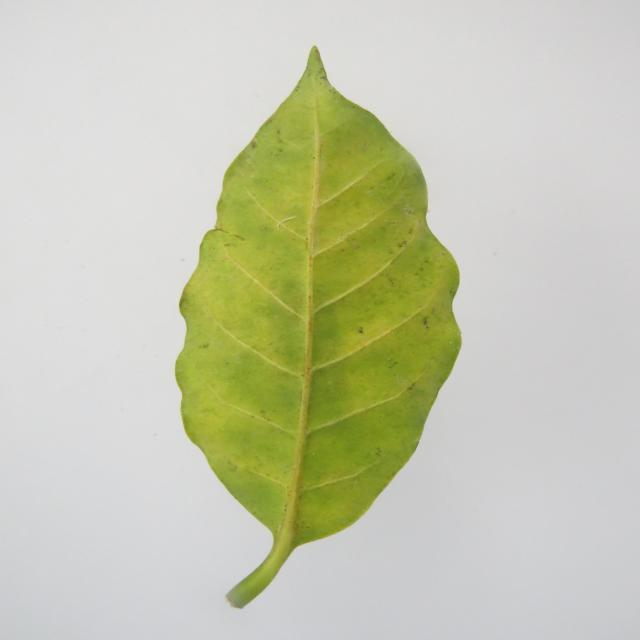DeficienciaNutricional-Calcio: (177, 50, 460, 565)
